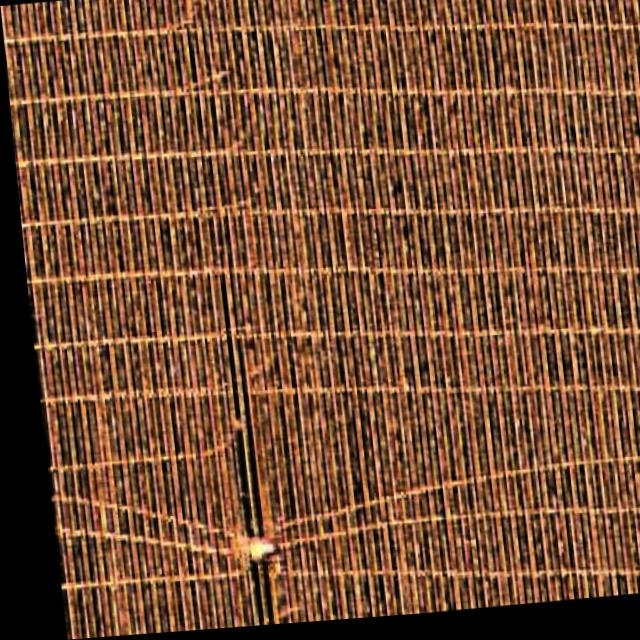Stitch: (89, 444, 412, 626)
